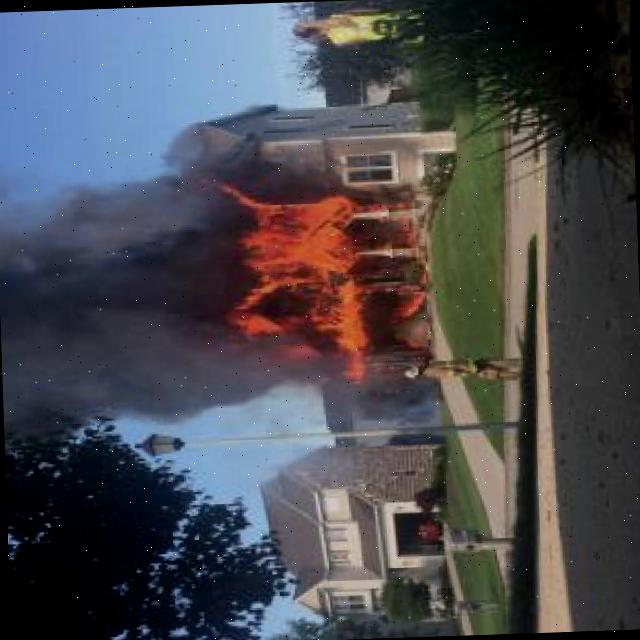fire: (226, 185, 371, 336), (316, 333, 375, 383)
